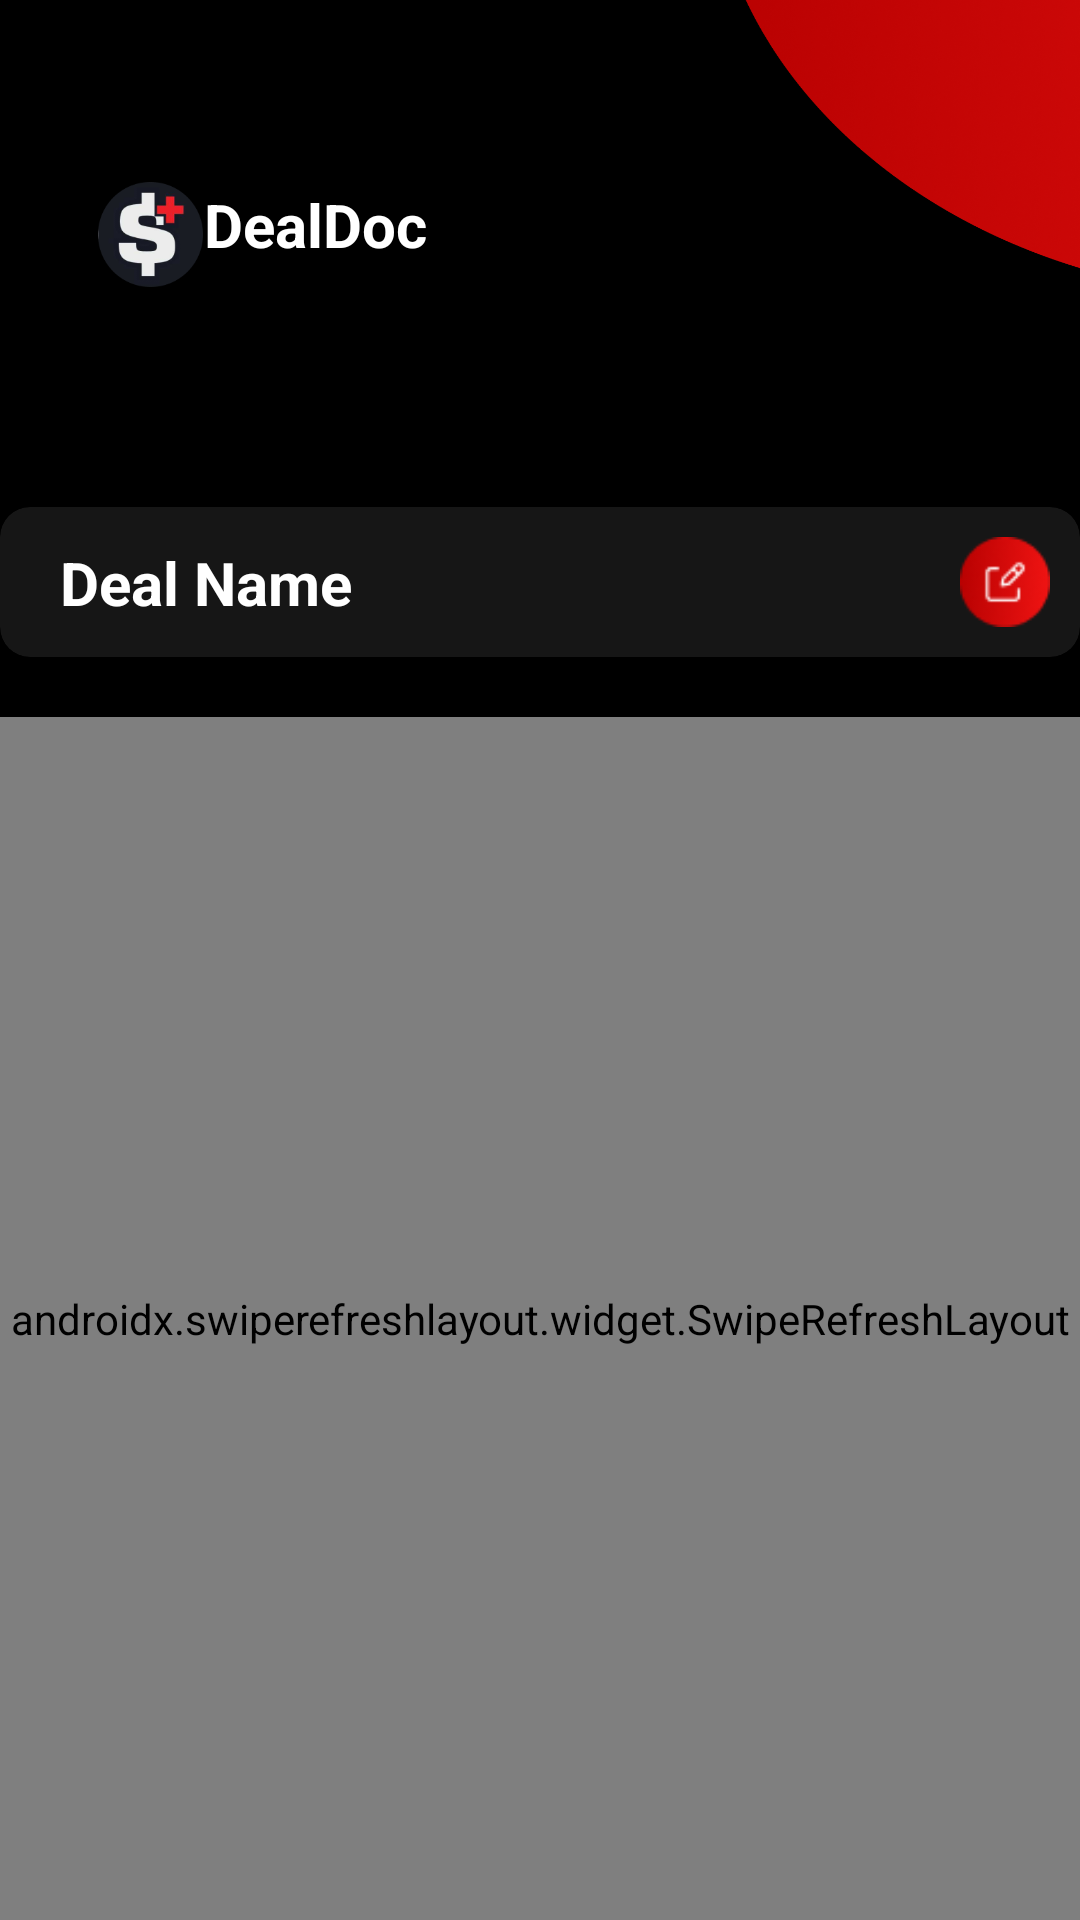

Icons on this 1080 x 1920 Android screen, each with its box as (x1, y1, x2, y2):
editbtn: (960, 537, 1050, 627)
